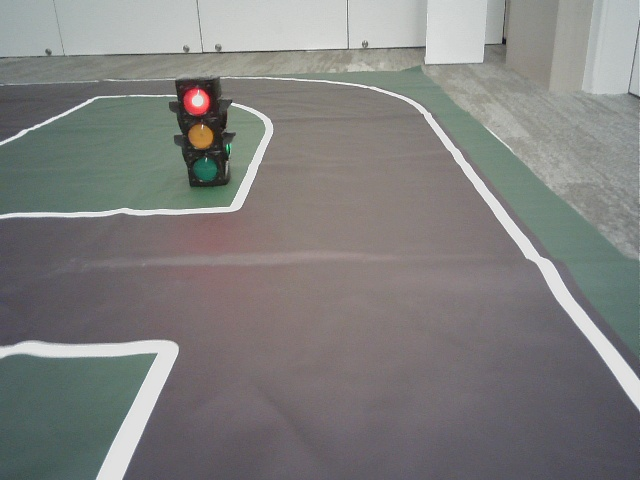red: (181, 84, 223, 180)
